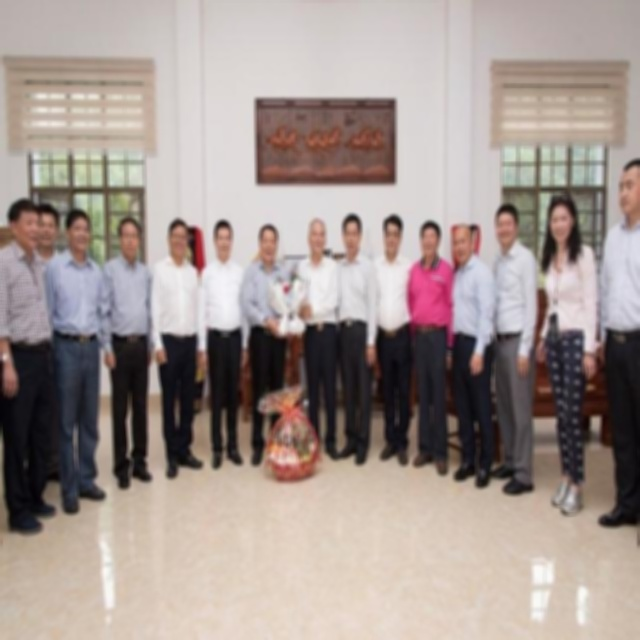Sin_Casco_Mascarrilla: (494, 204, 518, 245), (118, 218, 141, 260), (307, 218, 327, 259), (384, 213, 403, 256), (420, 218, 440, 258), (213, 219, 232, 259)
Sin_Chaleco: (45, 253, 101, 334), (152, 256, 200, 340), (452, 260, 496, 343), (337, 253, 377, 328)
